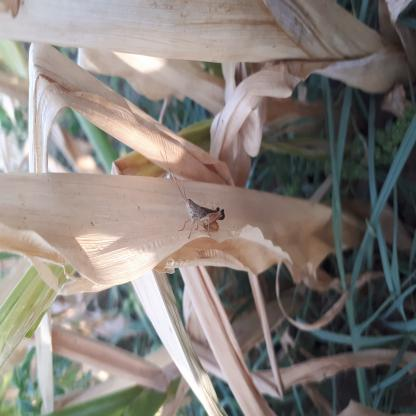grasshopper: (96, 307, 136, 409)
